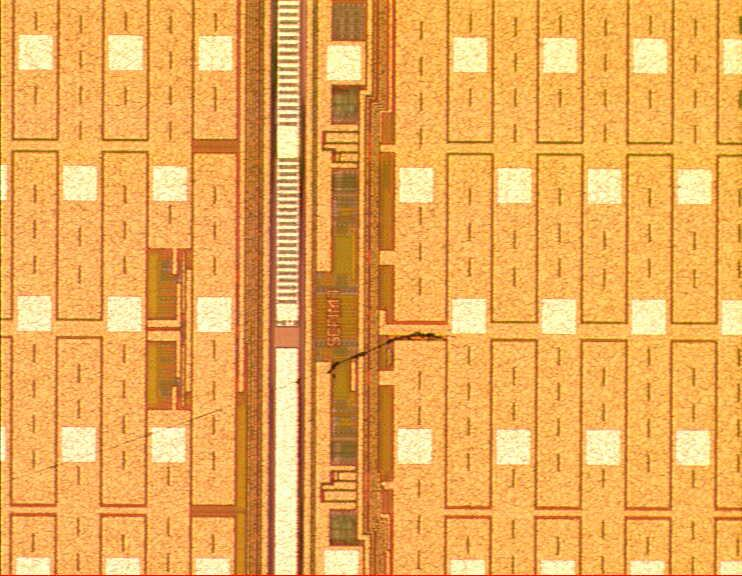SCRATCH: (1, 325, 459, 494)
